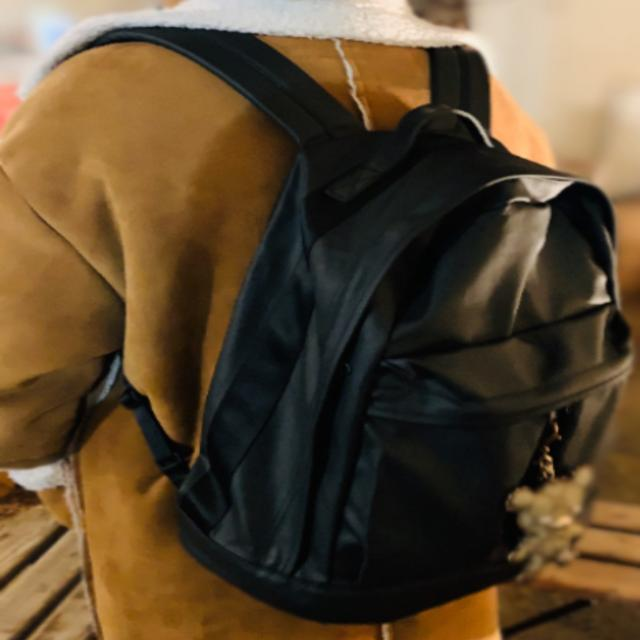backpack: (127, 82, 640, 620)
